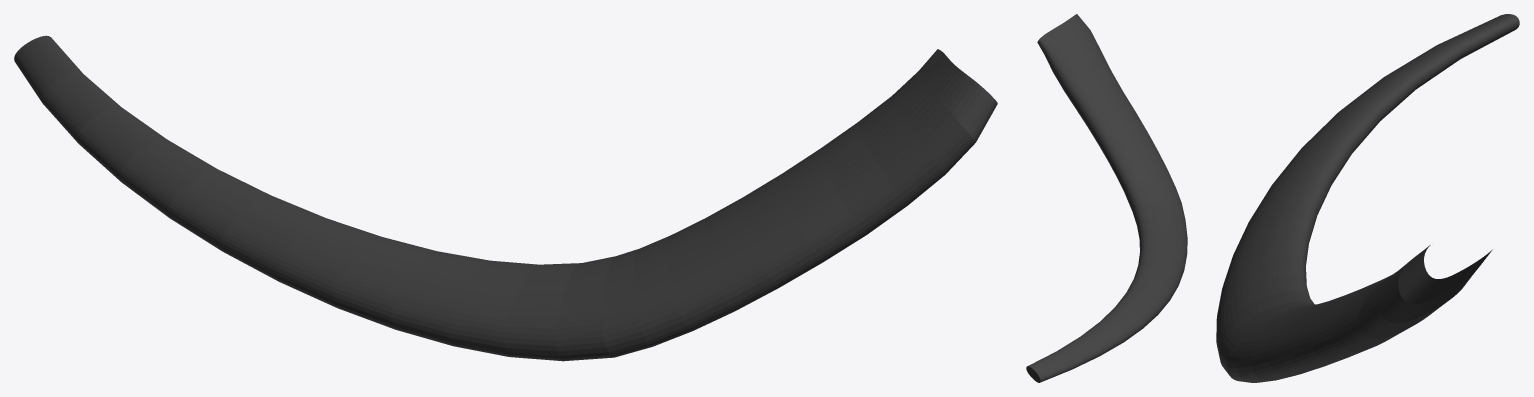
The model's file is N_5_trigeminus_maxillary_pterygopalatine_minorpalatine.glb.
3 views of the same model, side by side, from view 1: azimuth 30°, elevation 25°; view 2: azimuth 150°, elevation 25°; view 3: azimuth 330°, elevation 25° (orthographic). The views are drawn at different scales.
Parts seen in each view (by area): view 1: N_5_trigeminus_maxillary_pterygopalatine_minorpalatine; view 2: N_5_trigeminus_maxillary_pterygopalatine_minorpalatine; view 3: N_5_trigeminus_maxillary_pterygopalatine_minorpalatine.
Boxes of the visible parts, x1,y1,x2,y2 form: N_5_trigeminus_maxillary_pterygopalatine_minorpalatine: (14, 35, 997, 361); N_5_trigeminus_maxillary_pterygopalatine_minorpalatine: (1026, 14, 1187, 382); N_5_trigeminus_maxillary_pterygopalatine_minorpalatine: (1216, 14, 1519, 382).
Size of the model in its own units: 0.00374 by 0.00207 by 0.00683.
Materials: 1 (1 with a texture image).
